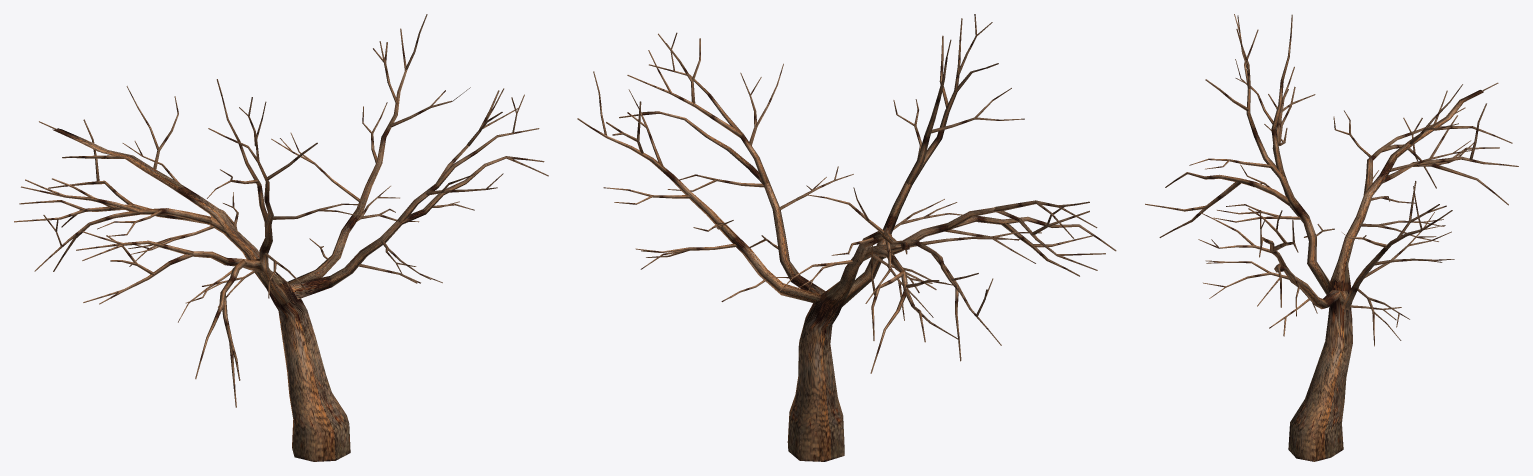
File: Big Tree.obj
3 views of the same model, side by side, from view 1: azimuth 30°, elevation 25°; view 2: azimuth 150°, elevation 25°; view 3: azimuth 270°, elevation 25° (orthographic). The views are drawn at different scales.
Visible parts, largest first — view 1: Tree_tree; view 2: Tree_tree; view 3: Tree_tree.
Boxes of the visible parts, left/top/right/bottom form: Tree_tree: left=14, top=14, right=548, bottom=461; Tree_tree: left=577, top=14, right=1116, bottom=461; Tree_tree: left=1145, top=14, right=1518, bottom=461.
Size of the model in its own units: 21.4 by 18.32 by 16.18.
